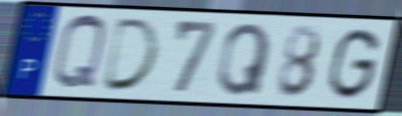7: (172, 18, 221, 95)
8: (274, 23, 323, 100)
D: (98, 16, 162, 93)
G: (325, 26, 383, 103)
Q: (49, 12, 109, 94), (215, 21, 274, 99)
